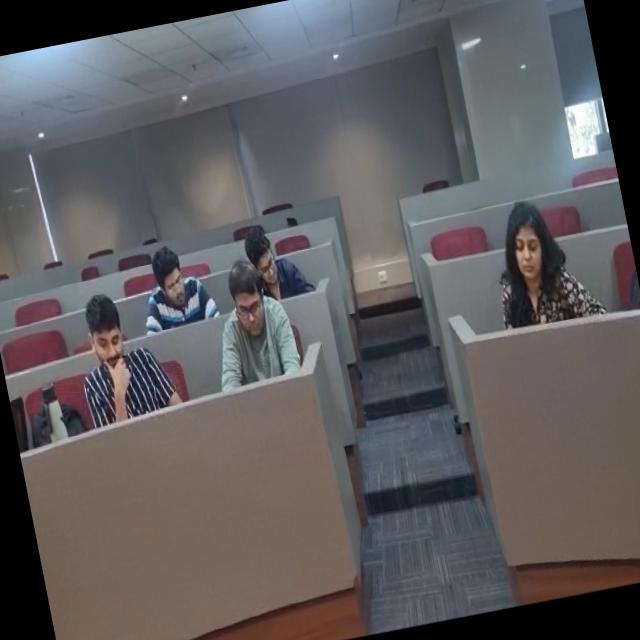non-cheating: (57, 279, 172, 447), (480, 189, 594, 318), (207, 255, 292, 390), (128, 225, 226, 335), (235, 212, 306, 306)
